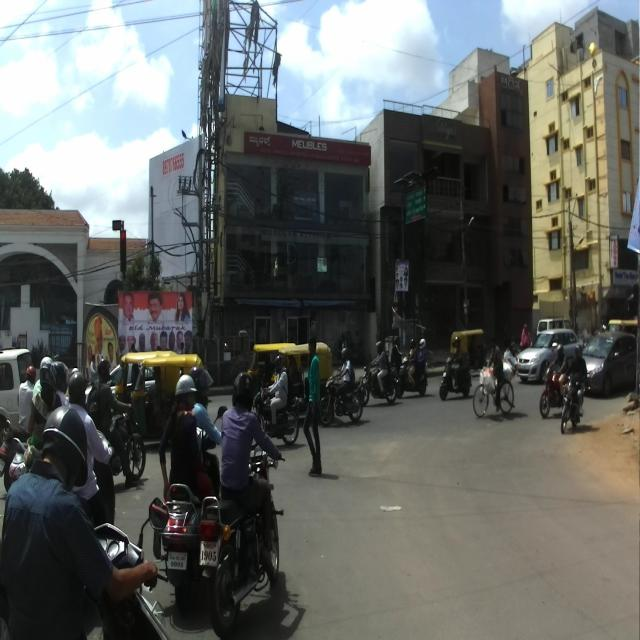Car_Maruti-Suzuki: (516, 325, 584, 386)
autorickshaw: (124, 352, 204, 455), (268, 340, 330, 424)
motorcycle_Hero: (249, 382, 303, 452)
motorcycle_Yamaha: (196, 420, 286, 637)
scooter: (156, 402, 229, 613)
